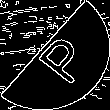P_NW: (22, 25, 88, 85)
